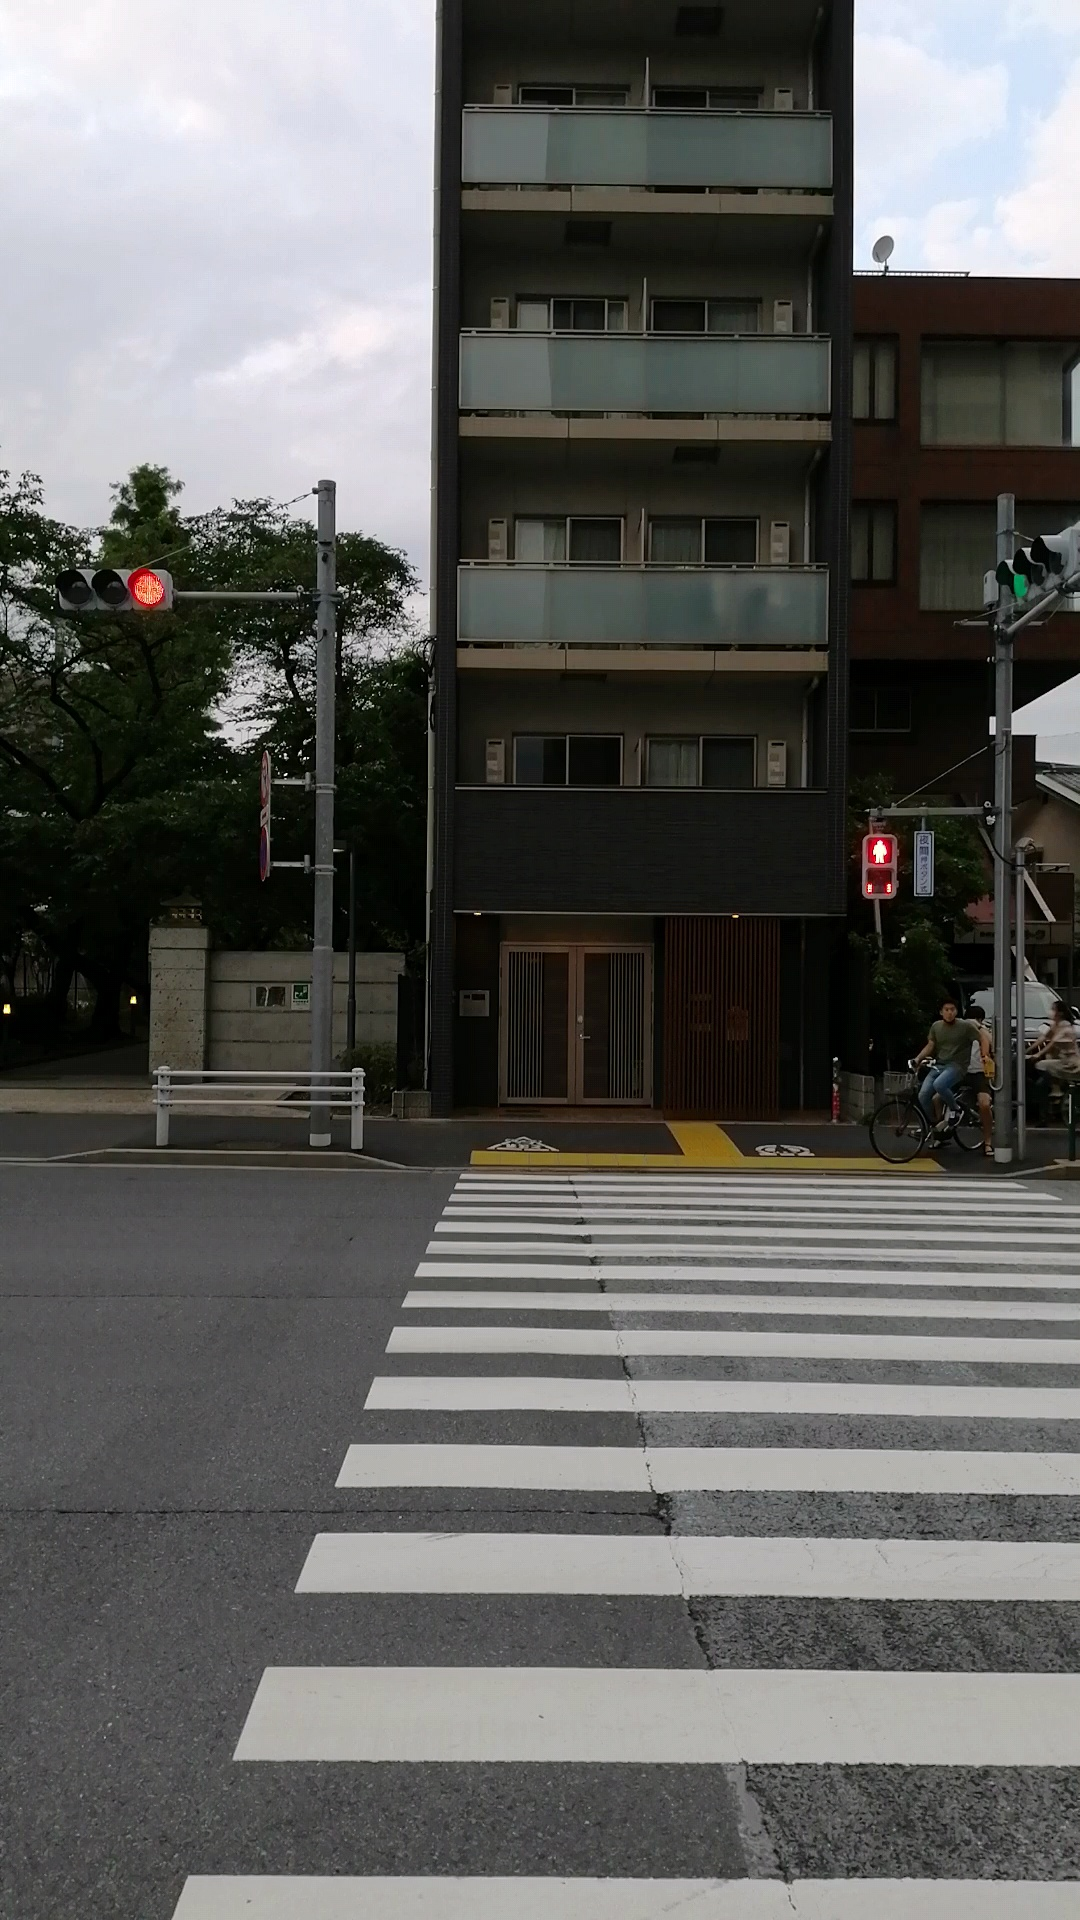red: (862, 832, 895, 899)
